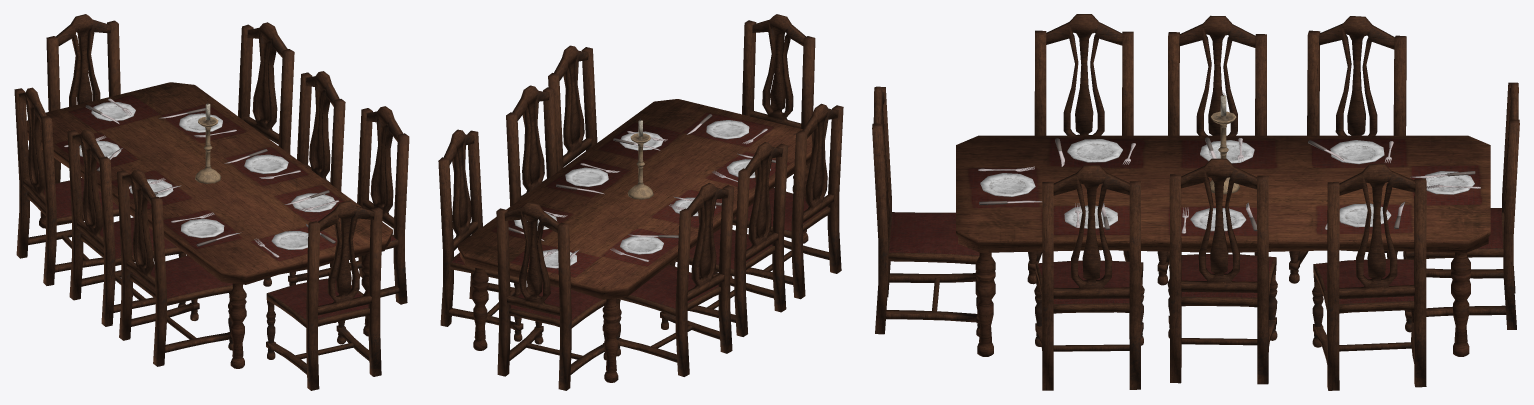
The model's file is dining_scene.glb.
3 views of the same model, side by side, from view 1: azimuth 30°, elevation 25°; view 2: azimuth 150°, elevation 25°; view 3: azimuth 270°, elevation 25° (orthographic). The views are drawn at different scales.
Parts seen in each view (by area): view 1: Table, Chair, Chair.007, Chair.006, Chair.005, Chair.001, Chair.003, Chair.004, Chair.002, CandleStick.001, Plate.003, Plate.008 (+4 smaller); view 2: Table, Chair.004, Chair.005, Chair.007, Chair.006, Chair.003, Chair, Chair.002, Chair.001, CandleStick.001, Plate.003, Plate.001 (+2 smaller); view 3: Table, Chair.003, Chair.002, Chair.001, Chair, Chair.005, Chair.007, Chair.006, Chair.004, Plate.008, Plate.001, Plate.006 (+6 smaller).
Part boxes in pixels (left/top/right/bottom): Table: left=27, top=82, right=392, bottom=368; Chair: left=266, top=200, right=382, bottom=390; Chair.007: left=117, top=169, right=233, bottom=366; Chair.006: left=67, top=129, right=185, bottom=326; Chair.005: left=14, top=87, right=118, bottom=285; Chair.001: left=288, top=106, right=409, bottom=322; Chair.003: left=238, top=22, right=294, bottom=154; Chair.004: left=46, top=14, right=120, bottom=183; Chair.002: left=263, top=71, right=345, bottom=286; CandleStick.001: left=195, top=102, right=221, bottom=183; Plate.003: left=244, top=154, right=288, bottom=173; Plate.008: left=181, top=218, right=224, bottom=238; Table: left=458, top=99, right=812, bottom=382; Chair.004: left=496, top=202, right=606, bottom=390; Chair.005: left=616, top=183, right=734, bottom=376; Chair.007: left=730, top=103, right=843, bottom=299; Chair.006: left=670, top=142, right=788, bottom=336; Chair.003: left=438, top=129, right=523, bottom=341; Chair: left=742, top=14, right=815, bottom=168; Chair.002: left=506, top=85, right=557, bottom=206; Chair.001: left=548, top=45, right=597, bottom=171; CandleStick.001: left=627, top=118, right=653, bottom=199; Plate.003: left=565, top=167, right=608, bottom=186; Plate.001: left=706, top=120, right=749, bottom=139; Table: left=956, top=135, right=1490, bottom=356; Chair.003: left=1312, top=163, right=1426, bottom=390; Chair.002: left=1167, top=158, right=1277, bottom=384; Chair.001: left=1034, top=165, right=1144, bottom=390; Chair: left=872, top=86, right=979, bottom=336; Chair.005: left=1289, top=16, right=1406, bottom=283; Chair.007: left=1027, top=14, right=1133, bottom=284; Chair.006: left=1157, top=15, right=1266, bottom=285; Chair.004: left=1403, top=82, right=1519, bottom=332; Plate.008: left=1067, top=139, right=1122, bottom=162; Plate.001: left=980, top=173, right=1035, bottom=196; Plate.006: left=1330, top=140, right=1384, bottom=164.
Bounding box in the file's own units: 1781 × 1189 × 3126.
Materials: 4 (4 with a texture image).
